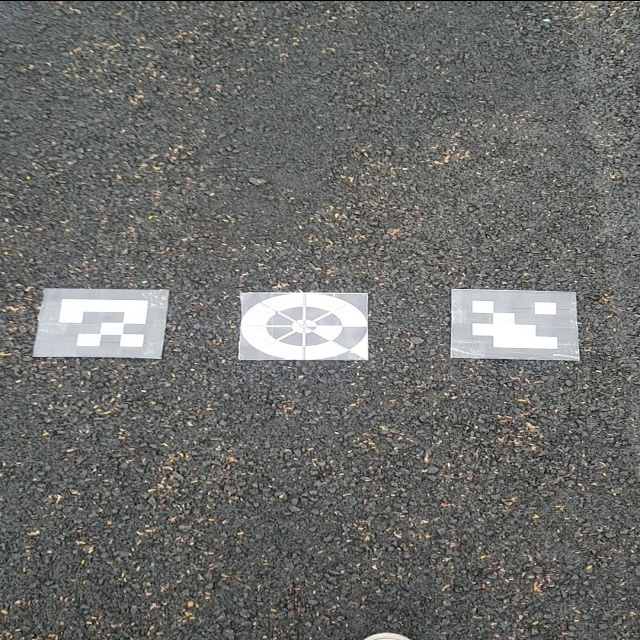landing-zone: (233, 287, 374, 364)
